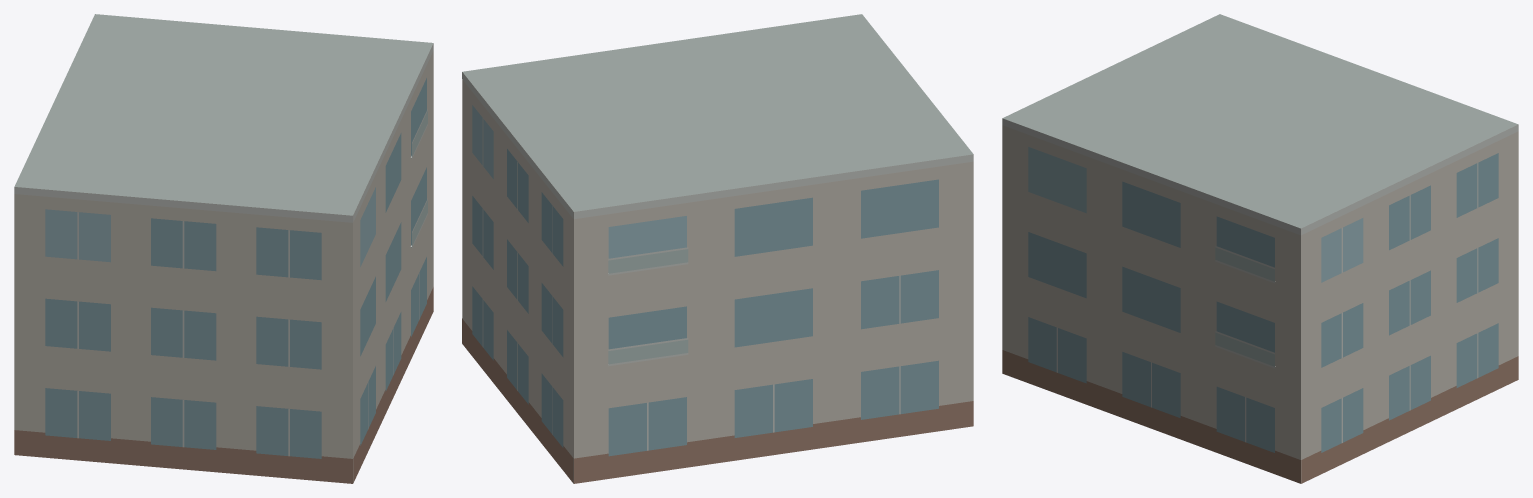
Rendered from survey-upis-33033856.glb.
3 views of the same model, side by side, from view 1: azimuth 30°, elevation 25°; view 2: azimuth 150°, elevation 25°; view 3: azimuth 270°, elevation 25° (orthographic). The views are drawn at different scales.
Visible parts, largest first — view 1: survey-upis-33033856.tmp; view 2: survey-upis-33033856.tmp; view 3: survey-upis-33033856.tmp.
Part boxes in pixels (x1,y1,x2,y2): survey-upis-33033856.tmp: [14, 14, 433, 483]; survey-upis-33033856.tmp: [462, 14, 973, 483]; survey-upis-33033856.tmp: [1002, 14, 1518, 483].
Size of the model in its own units: 16.5 by 9.15 by 16.78.
